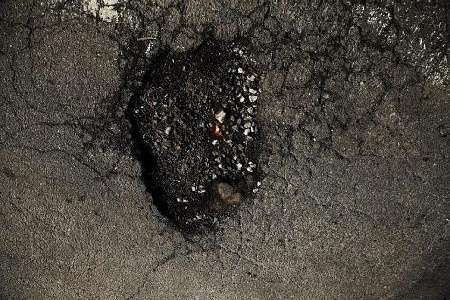pothole: (109, 36, 274, 241)
